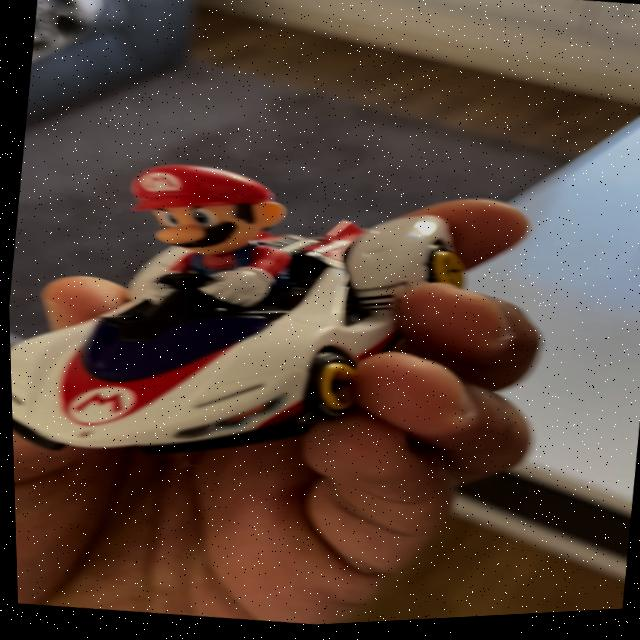mario: (4, 136, 518, 521)
